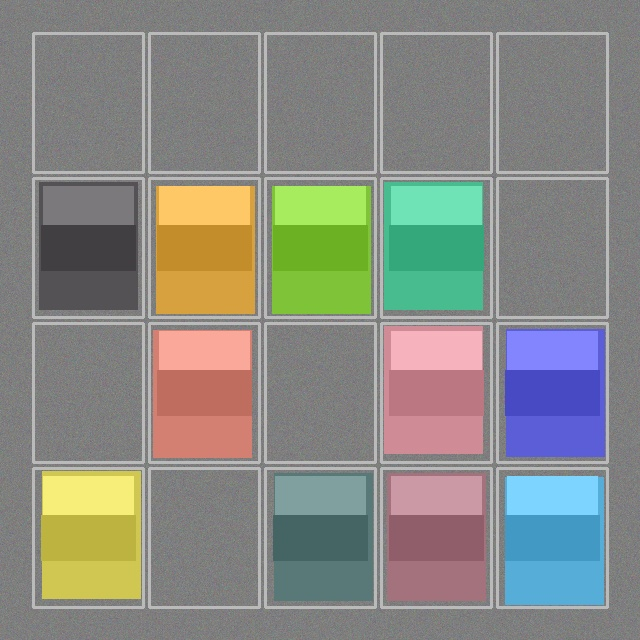space-empty: (35, 35, 141, 170), (151, 35, 257, 170), (267, 35, 373, 170), (383, 35, 489, 170), (499, 35, 605, 170), (499, 180, 605, 315), (35, 325, 141, 460), (267, 325, 373, 460), (151, 470, 257, 605)
space-occupied: (35, 180, 141, 315), (151, 180, 257, 315), (267, 180, 373, 315), (383, 180, 489, 315), (151, 325, 257, 460), (383, 325, 489, 460), (499, 325, 605, 460), (35, 470, 141, 605), (267, 470, 373, 605), (383, 470, 489, 605), (499, 470, 605, 605)
